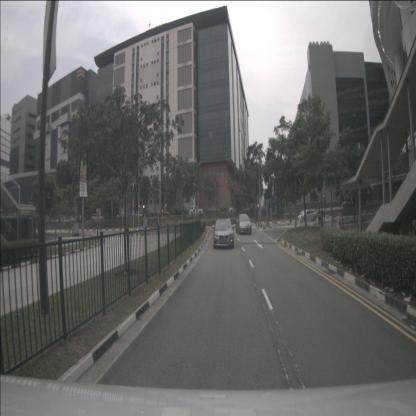human-pedestrian-adult: (318, 207, 322, 227), (254, 211, 257, 227)
vehicle-car: (213, 219, 234, 249), (235, 214, 252, 235), (297, 209, 318, 224), (189, 205, 204, 216), (206, 206, 221, 216), (228, 204, 242, 213), (92, 214, 104, 223), (116, 212, 129, 220), (158, 209, 170, 217), (247, 204, 258, 212), (132, 210, 143, 218), (173, 208, 182, 216), (60, 217, 70, 224), (77, 214, 84, 223), (51, 218, 60, 225)
